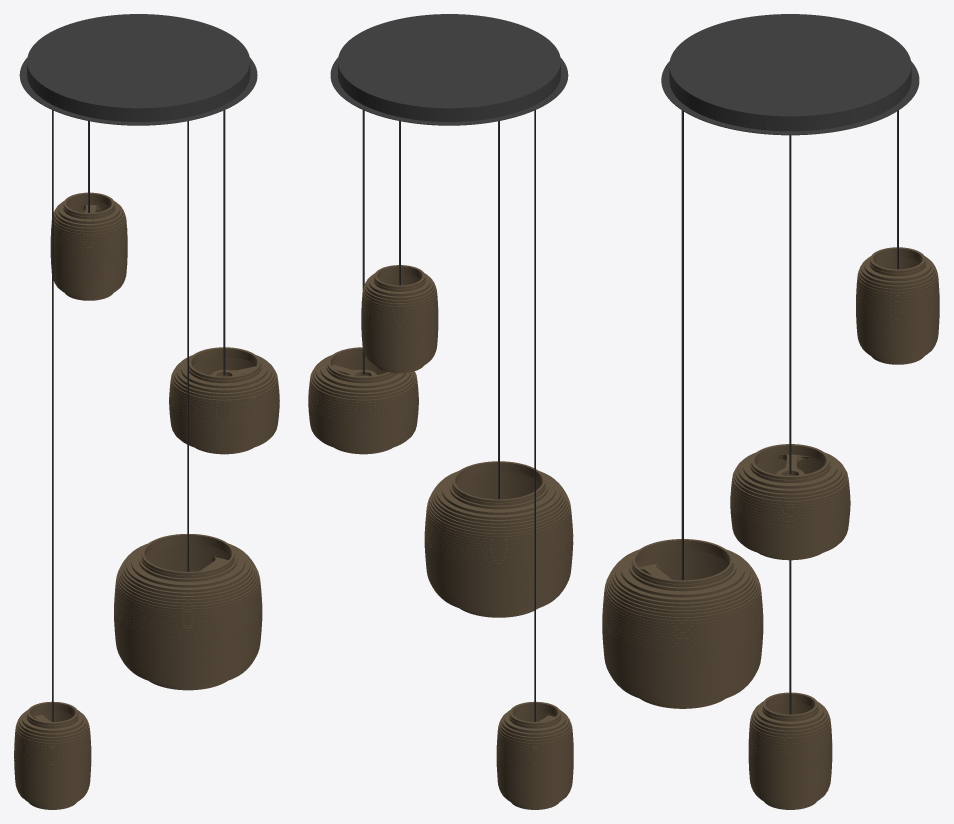
The picture shows the model from 3 angles, left to right: view 1: azimuth 30°, elevation 25°; view 2: azimuth 150°, elevation 25°; view 3: azimuth 270°, elevation 25°; orthographic projection. The views are drawn at different scales.
Size of the model in its own units: 0.7375 by 2 by 0.7847.
